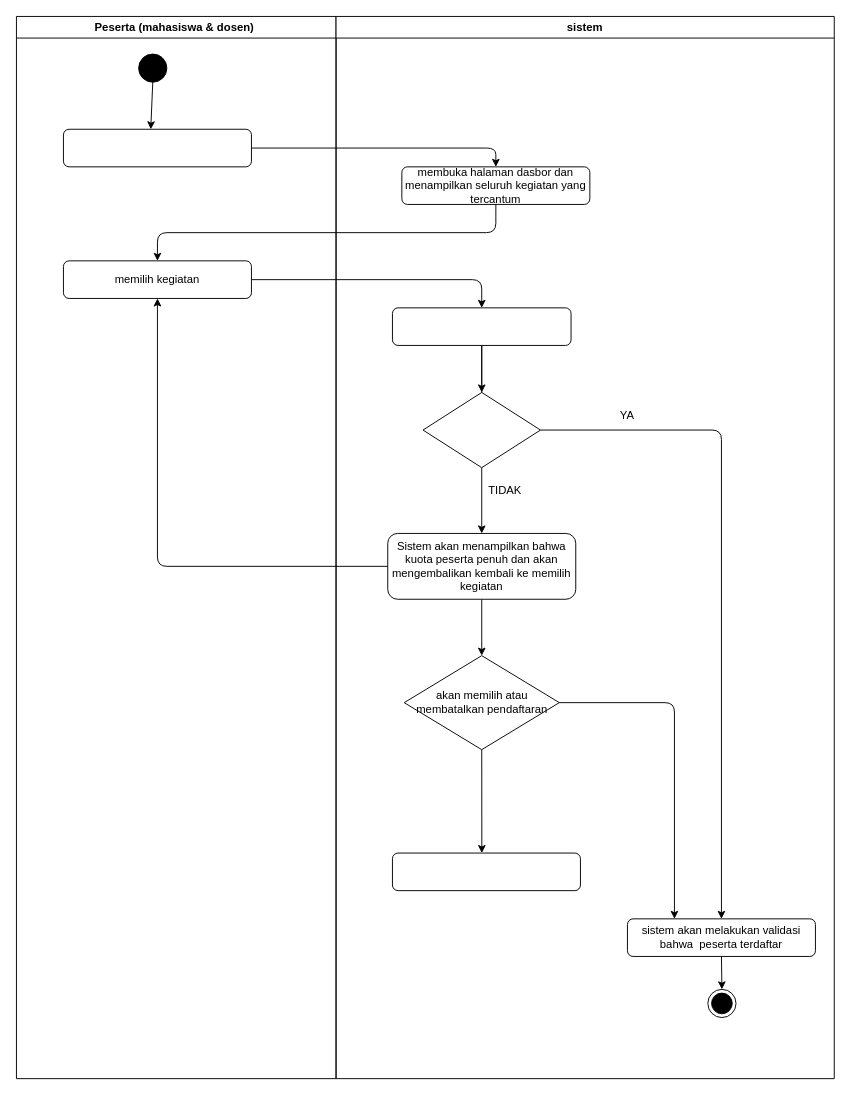
The diagram is 851 pixels wide and 1095 high, and some of its shapes have lost their labels. Here are the shapes that lost their labels. From the top down, the box of each, then its label:
(63, 128, 251, 167): memasuki halaman dasbor
(392, 307, 571, 345): membuka kegiatan tersebut
(422, 392, 540, 468): apakah tersedia ?
(392, 852, 580, 891): sistem akan memvalidasi bahwa kegiatan tersebut DIBATALKAN
